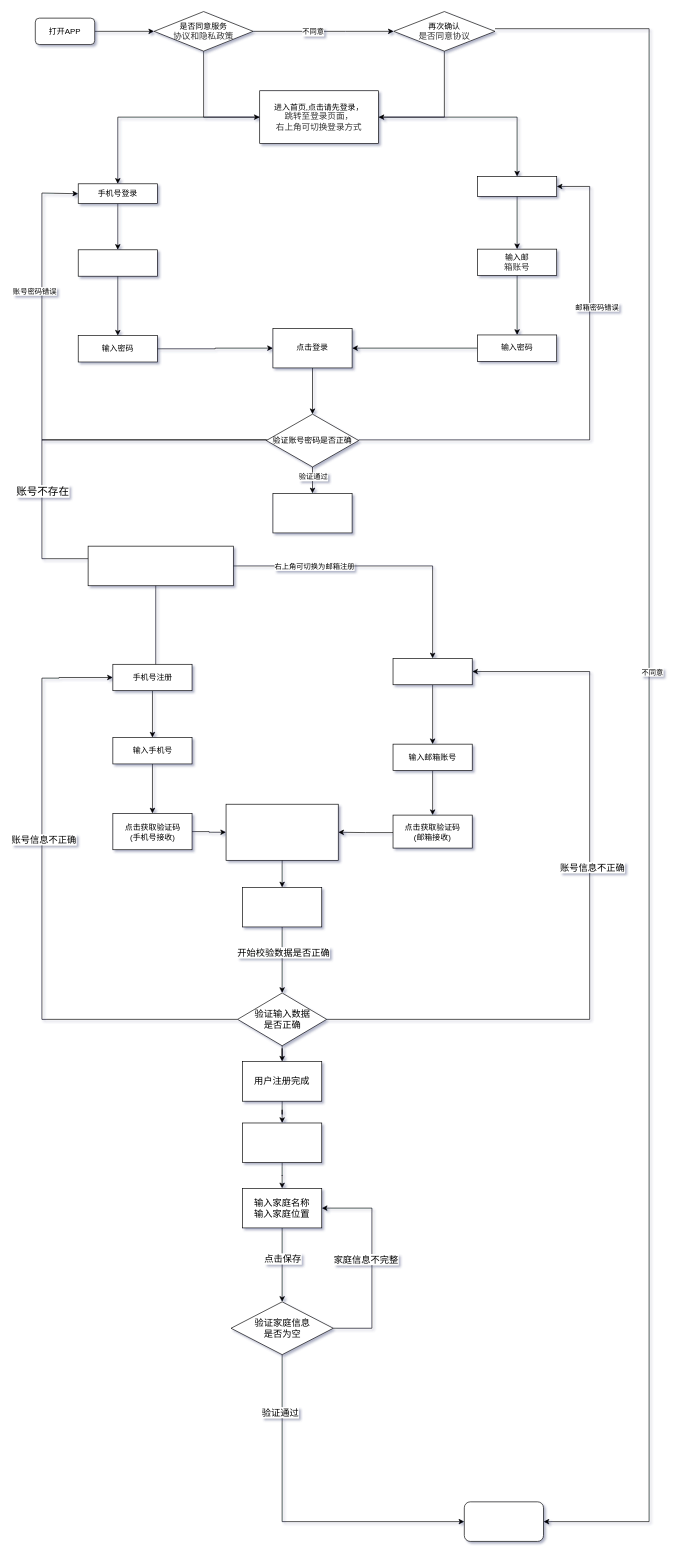
The diagram is 678 pixels wide and 1557 high, and some of its shapes have lost their labels. Each missing label, with the box of its shape:
同意服务协议 和用户隐私协议 点击注册: (242, 887, 322, 927)
点击立即注册 跳转至注册页面: (87, 545, 233, 586)
登录成功 返回首页: (272, 493, 352, 533)
结束流程: (464, 1501, 544, 1541)
跳转完善家 庭信息页面: (242, 1122, 322, 1163)
输入获取到的验证码 输入要设置的密码 再次输入要设置密码: (225, 804, 338, 860)
选择区号 输入手机号: (78, 249, 157, 276)
邮箱注册: (392, 658, 472, 685)
邮箱登录: (477, 176, 557, 196)
